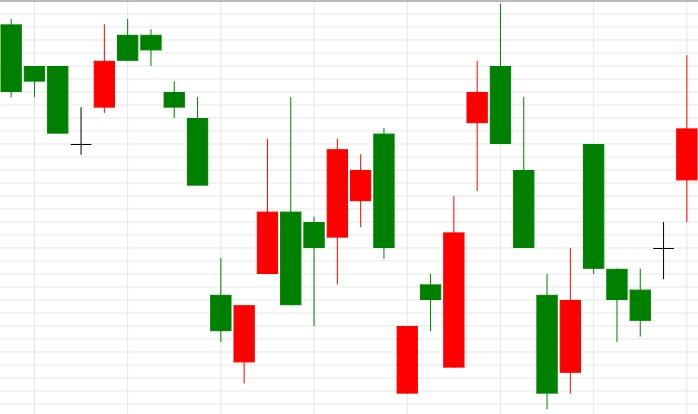bearish_engulfing_fall: (233, 97, 395, 383)
three_black_crows_fall: (442, 3, 559, 408), (69, 18, 209, 186)
